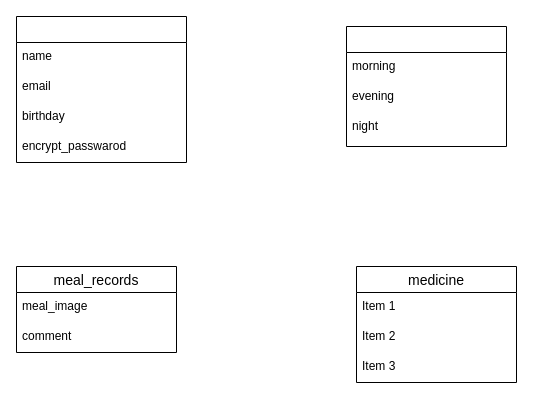
Some shapes in this 533 by 399 pixel diagram are drawn without their labels. The box of each missing label's shape, as (x1, y1, x2, y2) in pixels:
measurement_records: (346, 26, 506, 146)
user: (16, 16, 186, 162)
